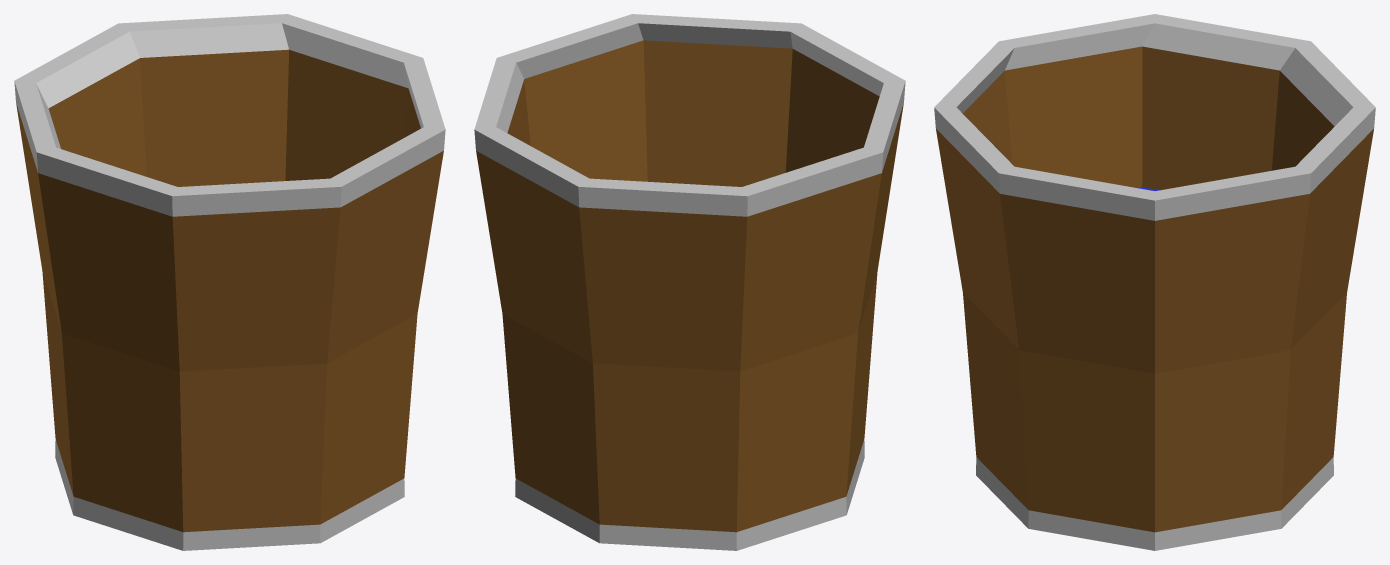
The model's file is bucket.fbx.
The picture shows the model from 3 angles, left to right: view 1: azimuth 30°, elevation 25°; view 2: azimuth 150°, elevation 25°; view 3: azimuth 270°, elevation 25°; orthographic projection.
Visible parts, largest first — view 1: Cylinder; view 2: Cylinder; view 3: Cylinder.
Part boxes in pixels (bbox=[...]): Cylinder: bbox=[14, 14, 445, 550]; Cylinder: bbox=[474, 14, 905, 550]; Cylinder: bbox=[934, 14, 1375, 550].
Size of the model in its own units: 218 by 200 by 218.
